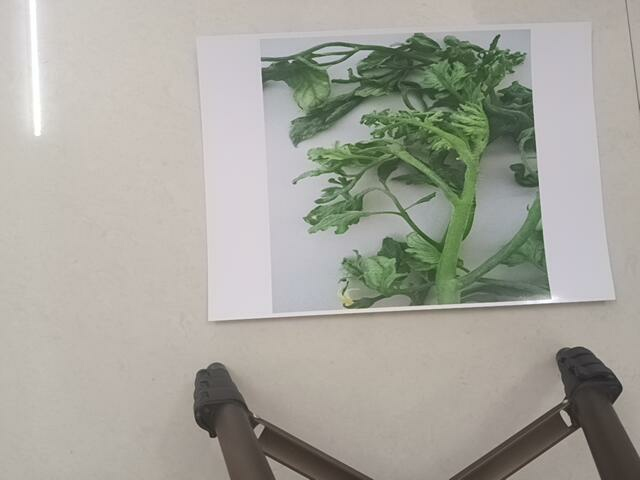Tomamto_Mosaic_virus: (256, 37, 561, 303)
